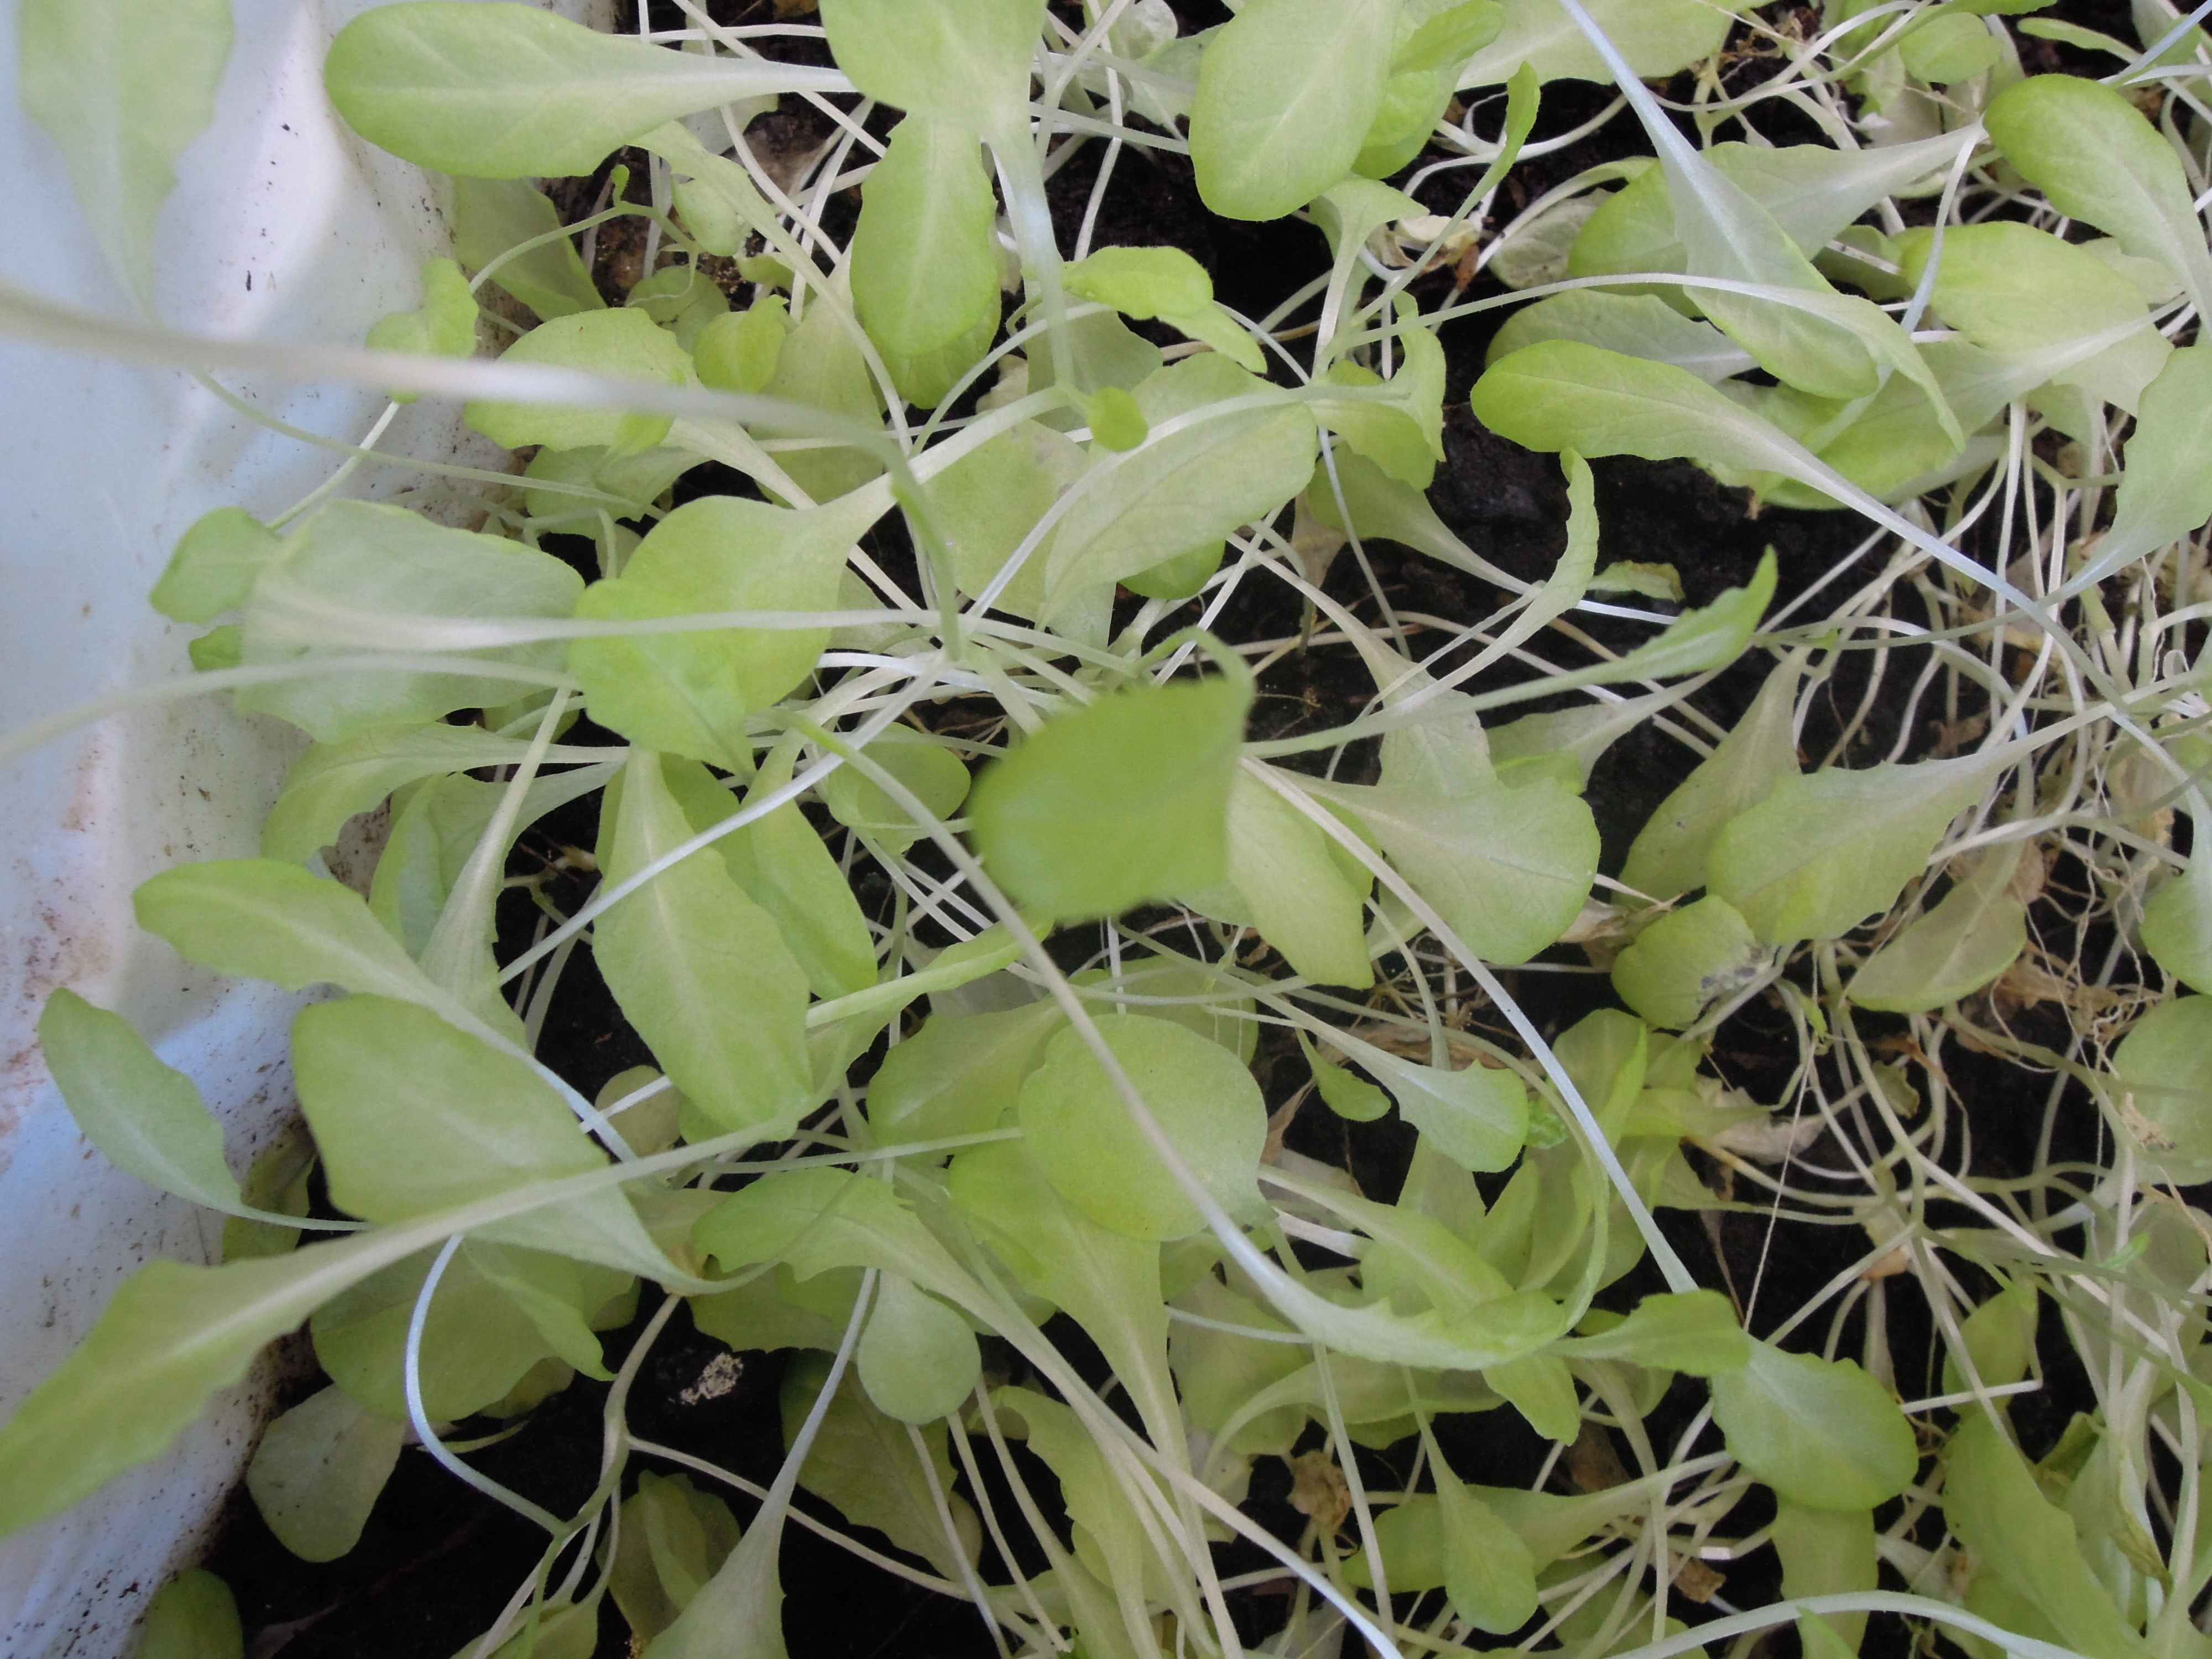weeek6: (653, 23, 1925, 1513)
